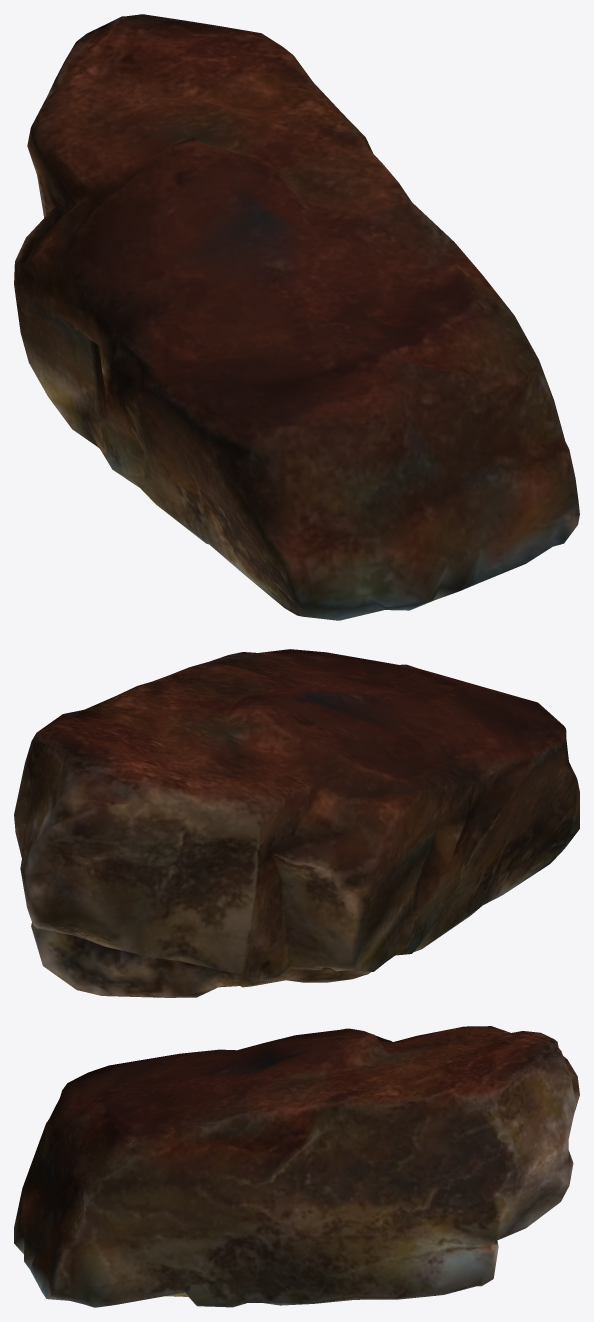
Rendered from rock_07.glb.
3 views of the same model, one above another, from view 1: azimuth 30°, elevation 25°; view 2: azimuth 150°, elevation 25°; view 3: azimuth 270°, elevation 25° (orthographic). The views are drawn at different scales.
Parts seen in each view (by area): view 1: rock_07; view 2: rock_07; view 3: rock_07.
Boxes of the visible parts, left/top/right/bottom form: rock_07: left=14, top=14, right=579, bottom=620; rock_07: left=14, top=649, right=579, bottom=997; rock_07: left=14, top=1026, right=579, bottom=1307.
Size of the model in its own units: 0.1675 by 0.1434 by 0.3194.
Materials: 1 (1 with a texture image).
